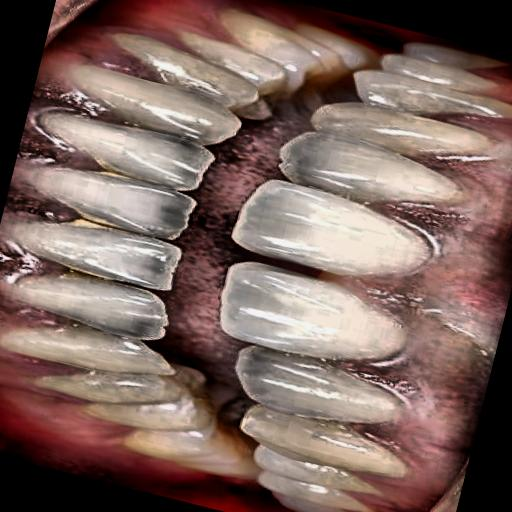Healthy: (49, 9, 512, 508)
